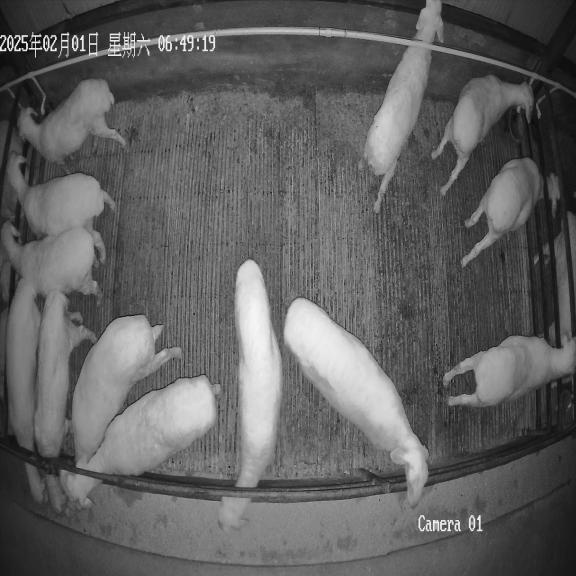eating: (65, 315, 181, 501), (67, 376, 220, 506), (218, 260, 282, 530), (34, 291, 97, 513), (6, 279, 47, 503)
stand: (284, 298, 428, 506), (360, 0, 443, 213), (431, 75, 534, 194), (461, 158, 560, 266), (443, 336, 576, 407), (7, 152, 115, 237), (17, 79, 126, 163), (2, 221, 102, 301)
